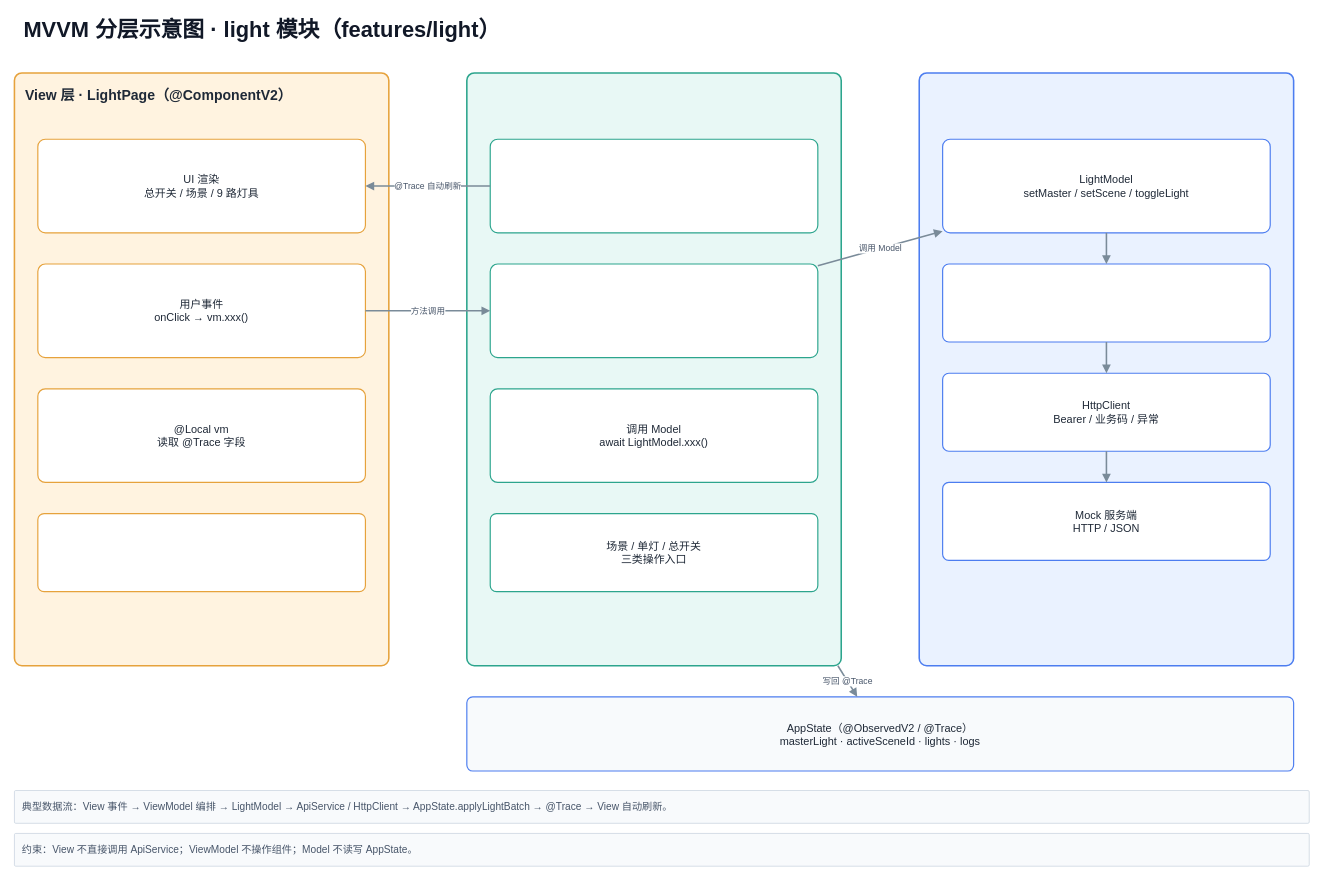
This 1330x880 diagram has some shape labels left out. Each missing label, with the box of its shape:
@Trace 状态 （通过 app 读写）: (489, 138, 818, 233)
ApiService REST 接口封装: (942, 263, 1270, 342)
Model + Commons 层: (918, 72, 1294, 666)
ViewModel 层 · LightViewModel（@ObservedV2）: (466, 72, 842, 666)
业务编排 门控 / Toast / 状态写回: (489, 263, 818, 358)
布局 / 动画 Toast 提示触发: (37, 513, 366, 592)
